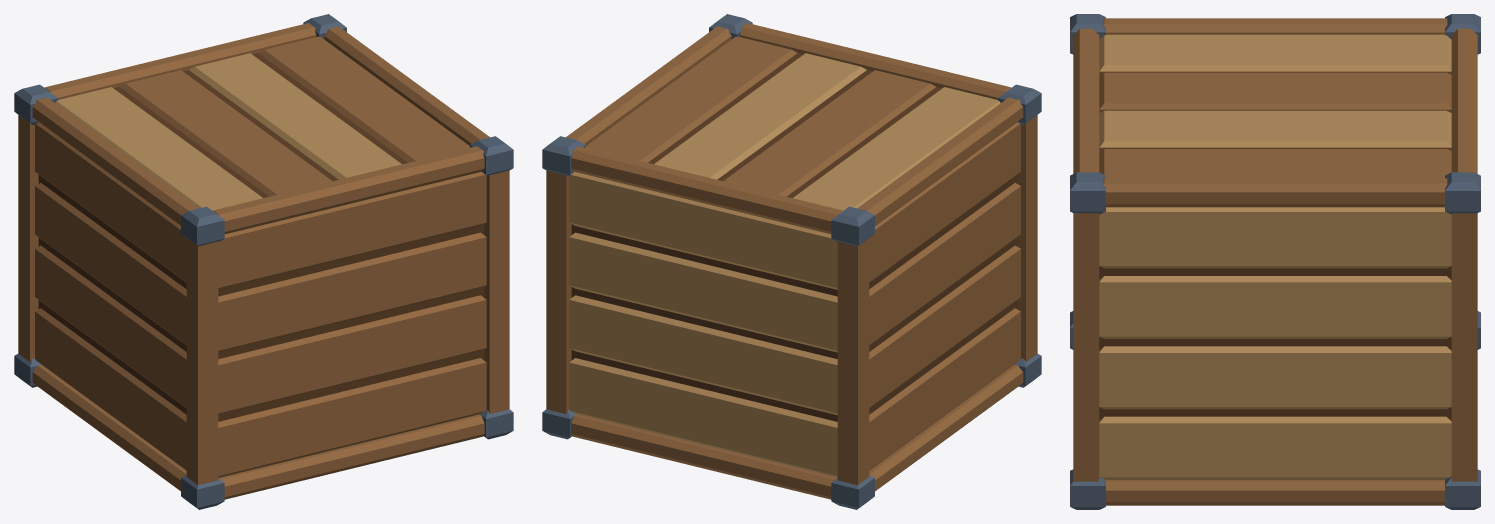
Rendered from Crate_19.glb.
3 views of the same model, side by side, from view 1: azimuth 30°, elevation 25°; view 2: azimuth 150°, elevation 25°; view 3: azimuth 270°, elevation 25° (orthographic). The views are drawn at different scales.
Visible parts, largest first — view 1: Crate_19; view 2: Crate_19; view 3: Crate_19.
Boxes of the visible parts, left/top/right/bottom form: Crate_19: left=14, top=14, right=513, bottom=509; Crate_19: left=542, top=14, right=1041, bottom=509; Crate_19: left=1070, top=14, right=1480, bottom=509.
Bounding box in the file's own units: 2.51 × 2.21 × 2.51.
